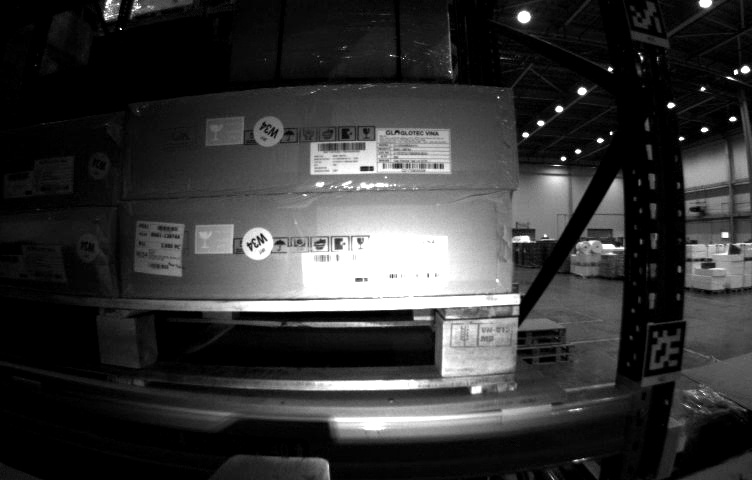True Barcode: (134, 218, 188, 275)
